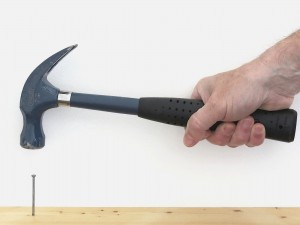hammer: (13, 41, 293, 151)
